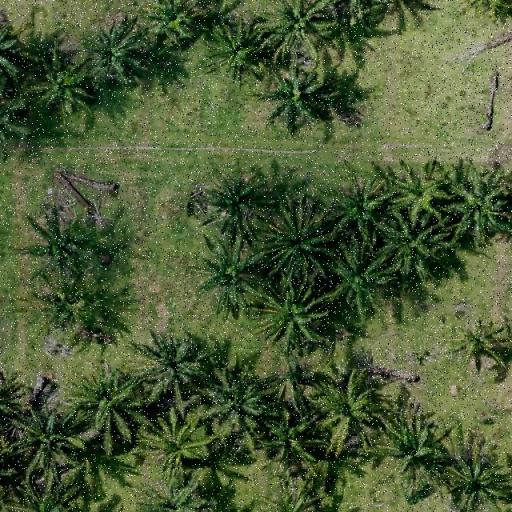Ganoderma: (155, 426, 196, 472), (458, 322, 502, 364)
